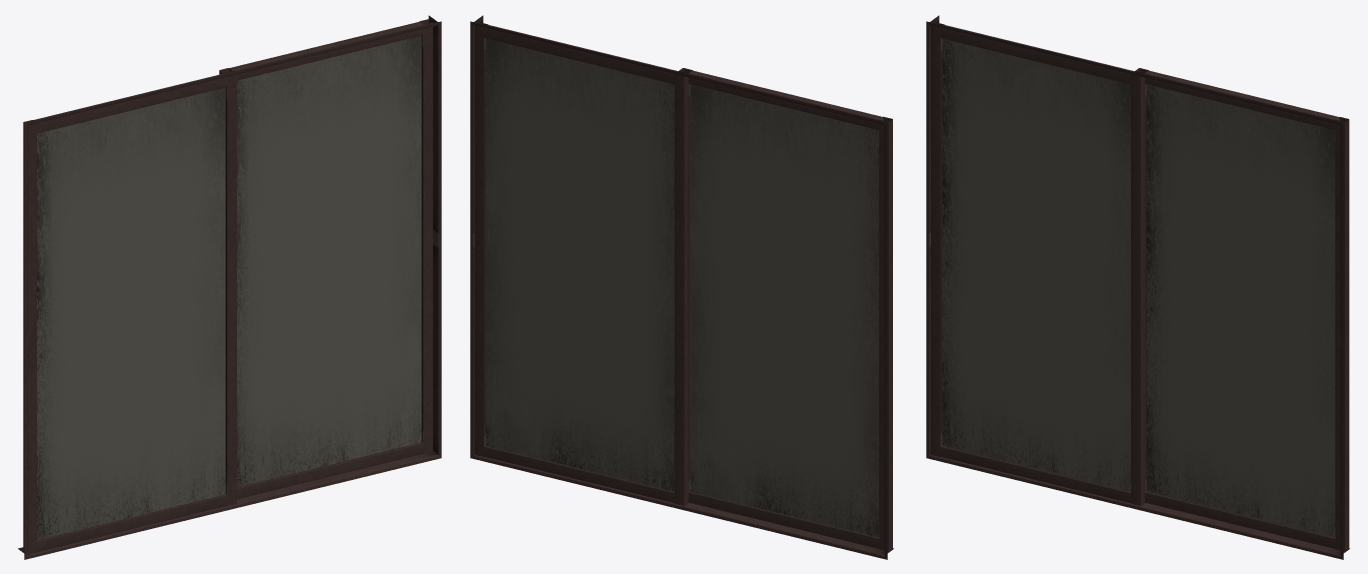
Rendered from Window_150_Large_02.FBX.
The picture shows the model from 3 angles, left to right: view 1: azimuth 30°, elevation 25°; view 2: azimuth 150°, elevation 25°; view 3: azimuth 330°, elevation 25°; orthographic projection.
Parts seen in each view (by area): view 1: Window_150_Large_02; view 2: Window_150_Large_02; view 3: Window_150_Large_02.
Boxes of the visible parts, x1,y1,x2,y2 form: Window_150_Large_02: [18, 15, 441, 559]; Window_150_Large_02: [470, 15, 893, 559]; Window_150_Large_02: [926, 15, 1349, 559].
Size of the model in its own units: 120 by 120 by 5.
